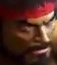ryu: (5, 0, 56, 64)
